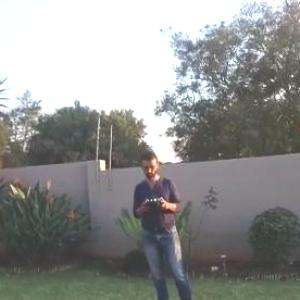follow: (126, 146, 206, 299)
